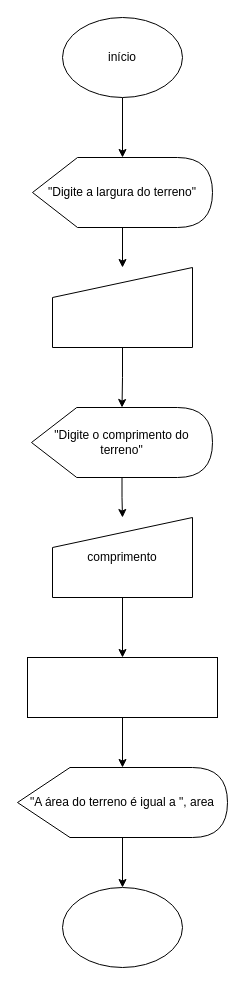
Image size: 245x985. Some labels were removed from this diagram. Here are the shapes that lost their labels. From the top down, the centre of each, then its label:
point (122, 307): largura
point (122, 687): area <- largura * comprimento
point (122, 927): fim
